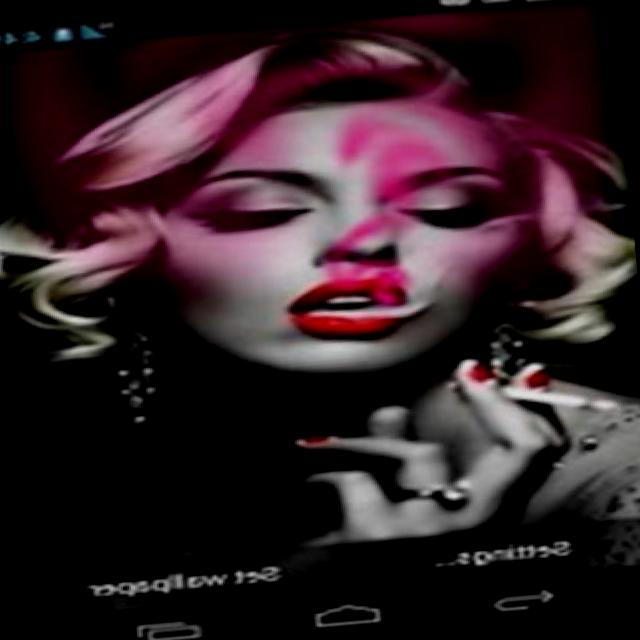cigarette: (502, 377, 618, 421)
